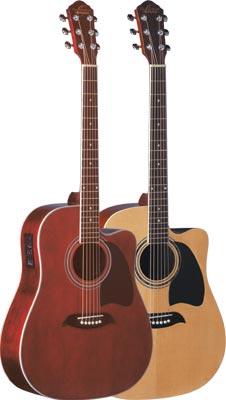guitar: (2, 1, 154, 399), (98, 1, 226, 397)
